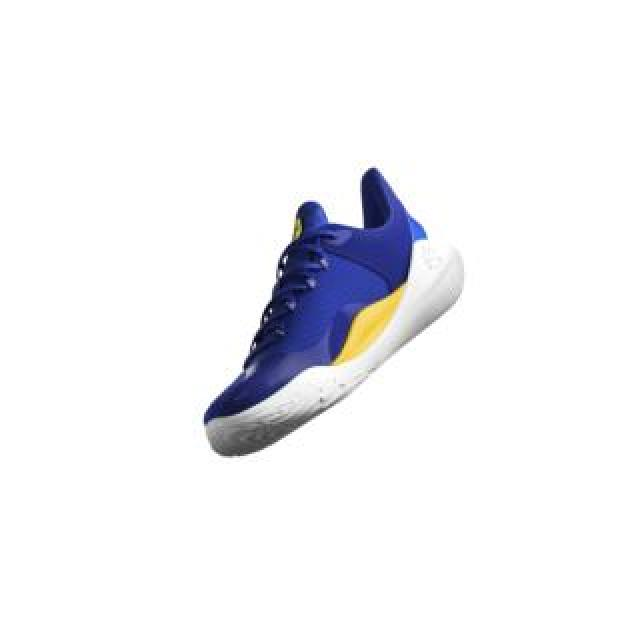shoe: (199, 168, 467, 456)
